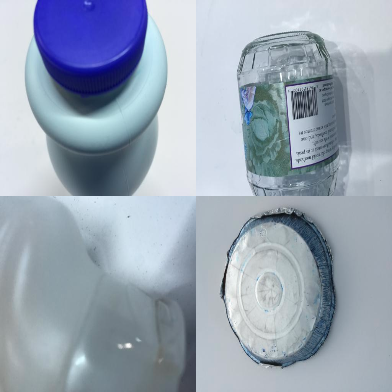glass: (237, 32, 341, 194)
metal: (219, 207, 337, 368)
plastic: (1, 197, 187, 389), (25, 1, 169, 196)
